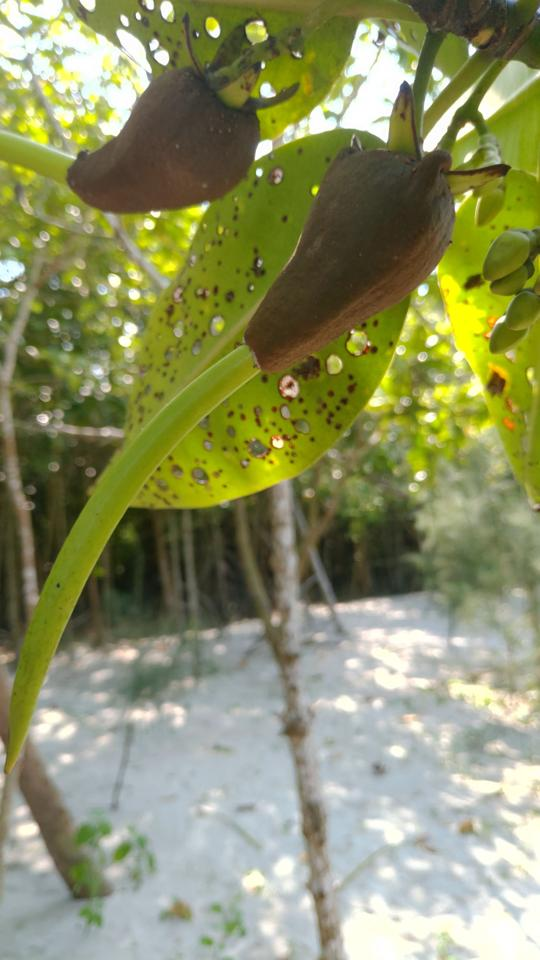mentah: (1, 73, 474, 793)
